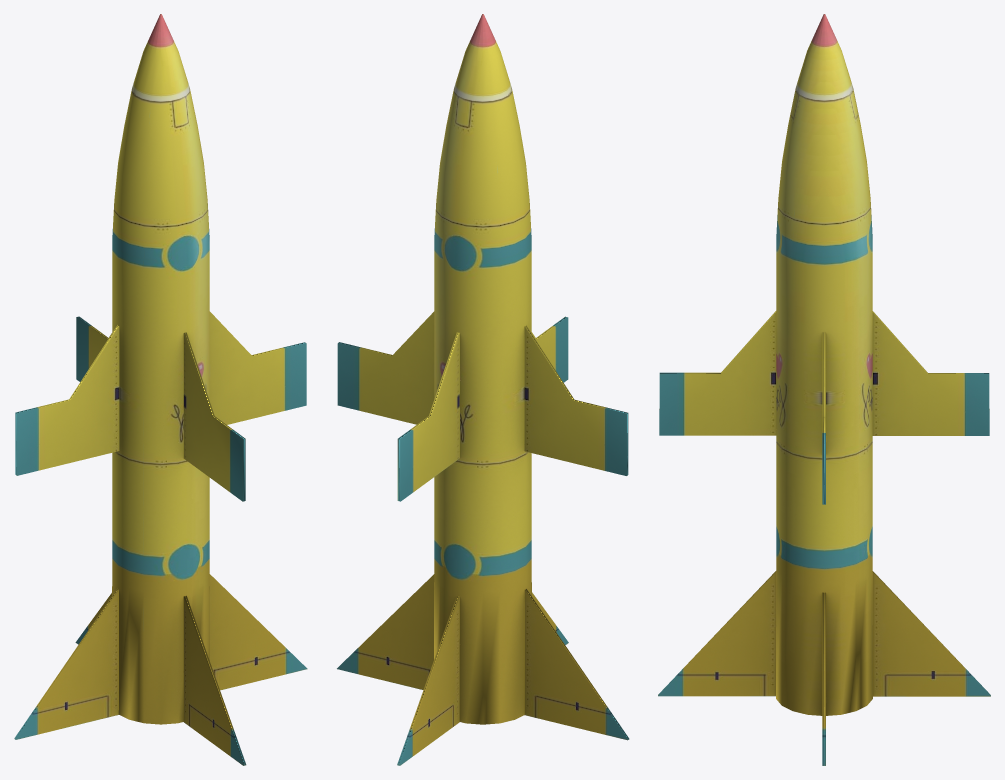
The model's file is Foxy_40fanim.FBX.
3 renders of one model, left to right at view 1: azimuth 30°, elevation 25°; view 2: azimuth 150°, elevation 25°; view 3: azimuth 270°, elevation 25°, orthographic.
Parts seen in each view (by area): view 1: Foxy; view 2: Foxy; view 3: Foxy.
Boxes of the visible parts, box(x1,y1,x2,y2) form: Foxy: box(14, 14, 307, 765); Foxy: box(337, 14, 629, 765); Foxy: box(658, 14, 990, 765).
Size of the model in its own units: 47.33 by 107 by 47.33.
Materials: 1 (1 with a texture image).
